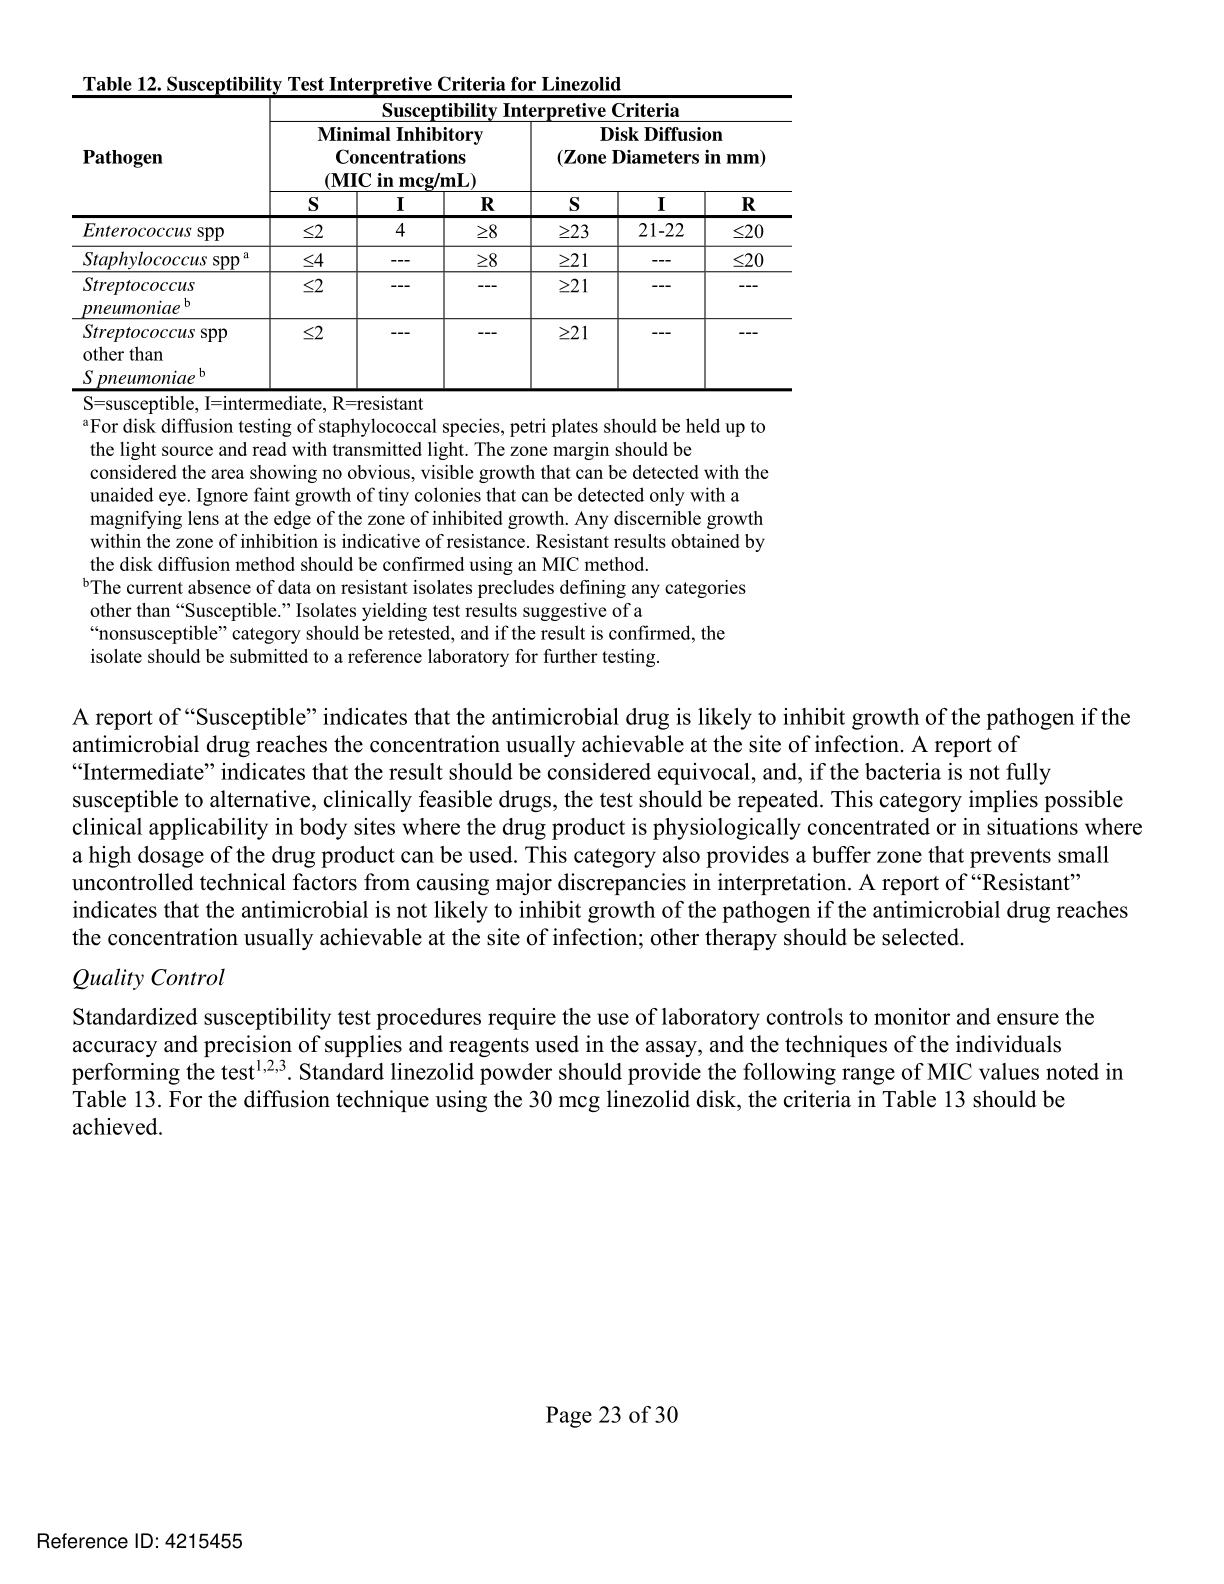partial_lined_merged_cells: (69, 93, 795, 393)
